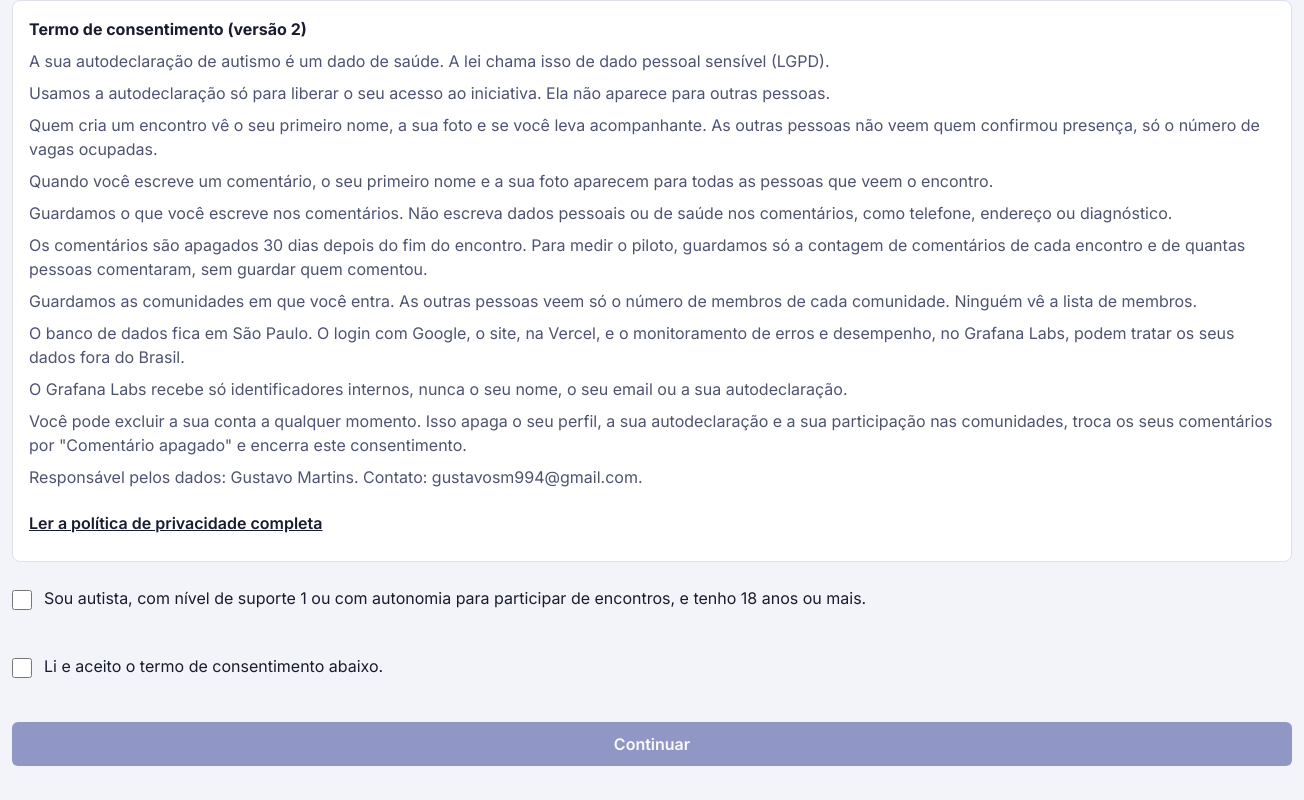
Scenario: tela /boas-vindas › só habilita o envio com as duas caixas marcadas
This screenshot has width=1304, height=800.
Click the checkbox labelled "Sou autista": (22, 600) [12,590,32,610]
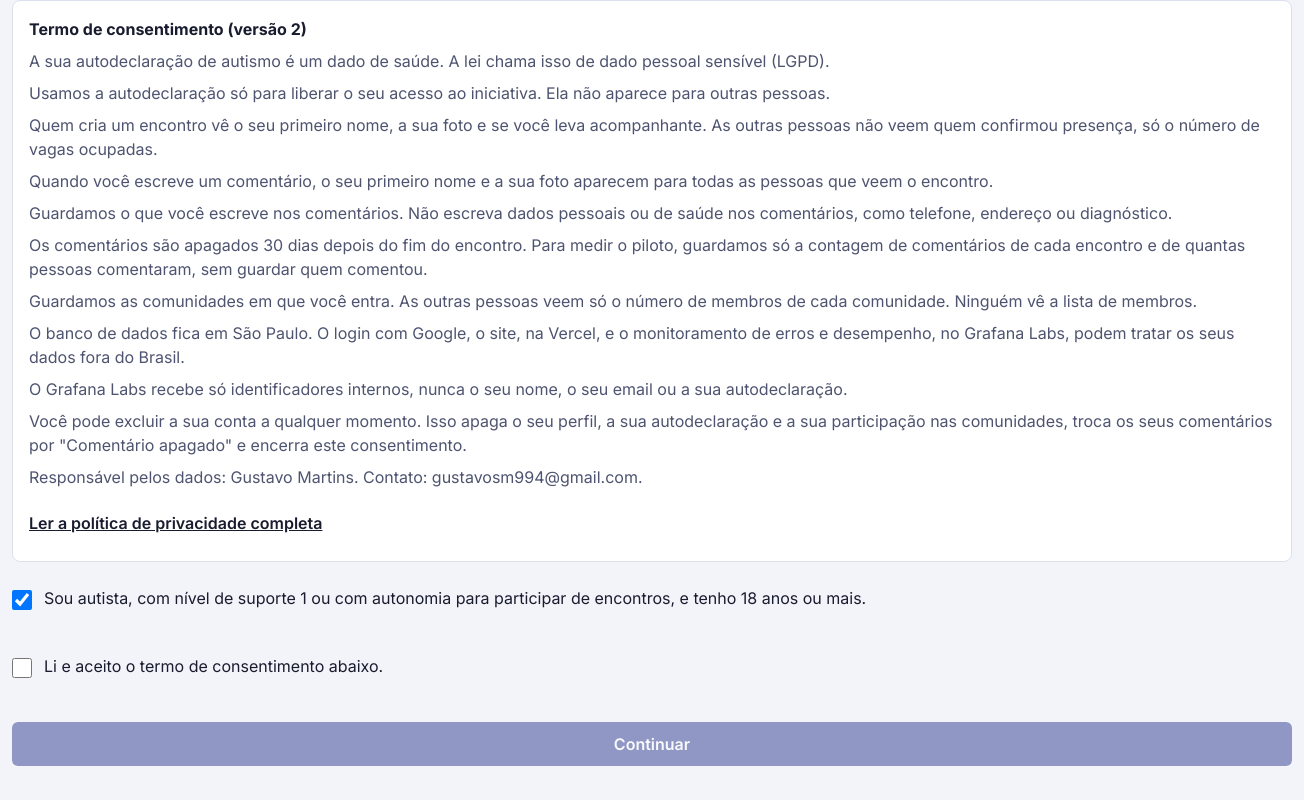
Expected: the button "Continuar" is disabled, [12,722,1292,766]
Click the checkbox labelled "Li e aceito o termo de consentimento abaixo.": (22, 668) [12,658,32,678]
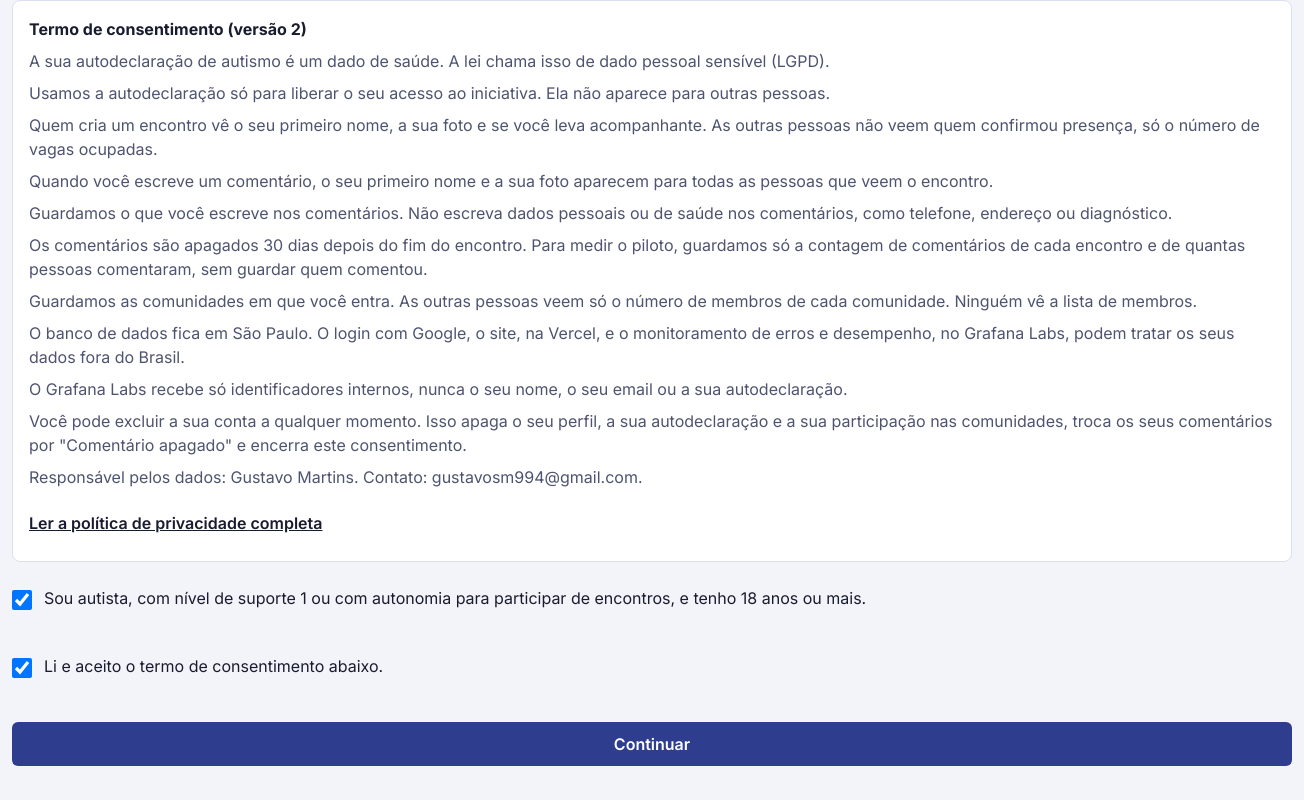
Result: the button "Continuar" is enabled at [12,722,1292,766]
